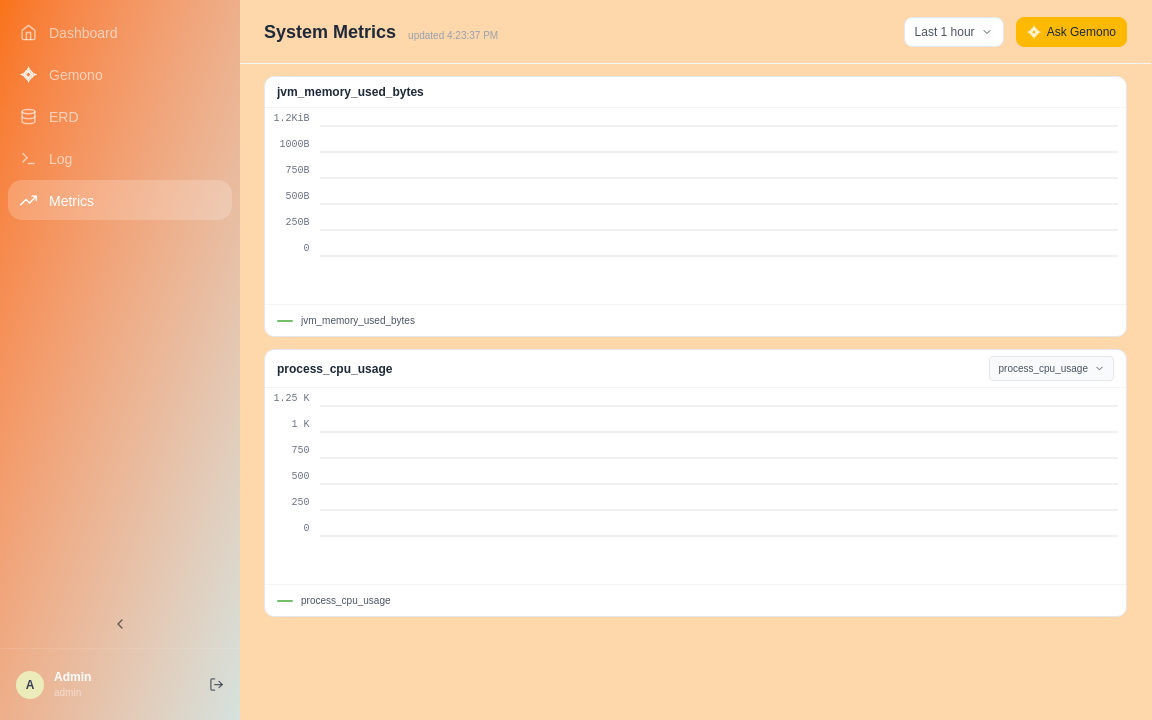
Test case: MetricsPage › menampilkan pesan kosong saat pencarian metrik tidak cocok
The width and height of the screenshot is (1152, 720).
Click the button "process_cpu_usage" at coordinates (1052, 368), box x1=990 y1=356 x2=1114 y2=381
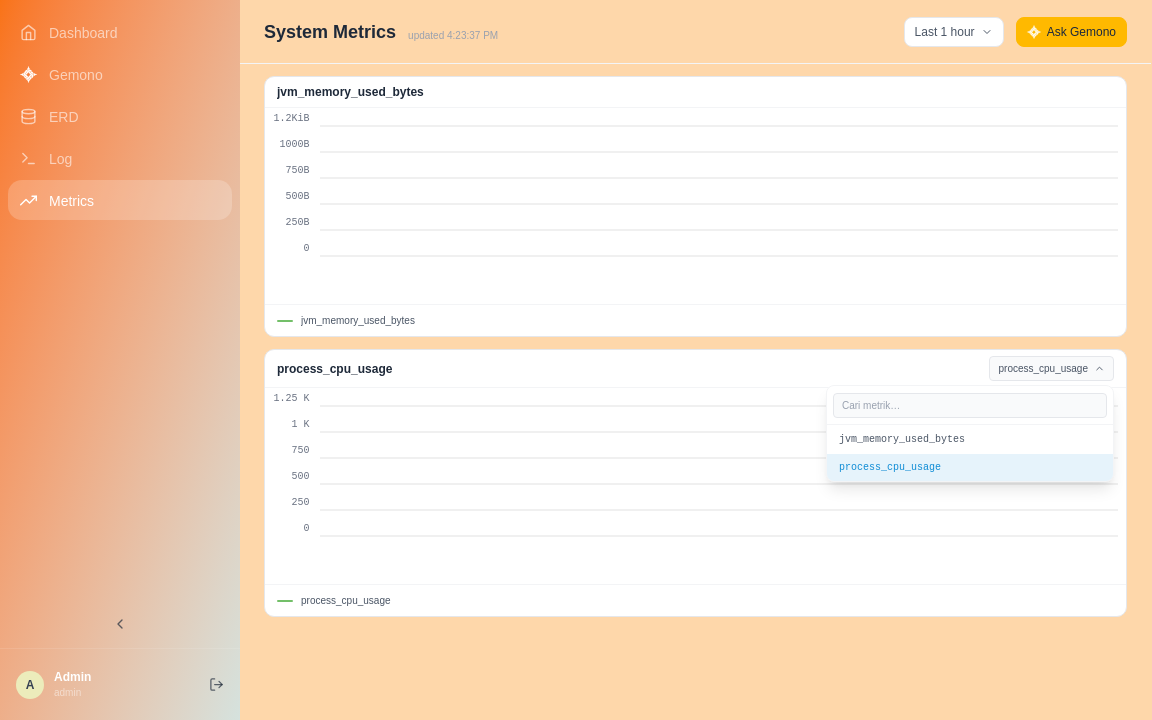
Type "tidak-ada-metrik-ini" into the field with id "metric-search" at coordinates (970, 406), box x1=833 y1=393 x2=1107 y2=418
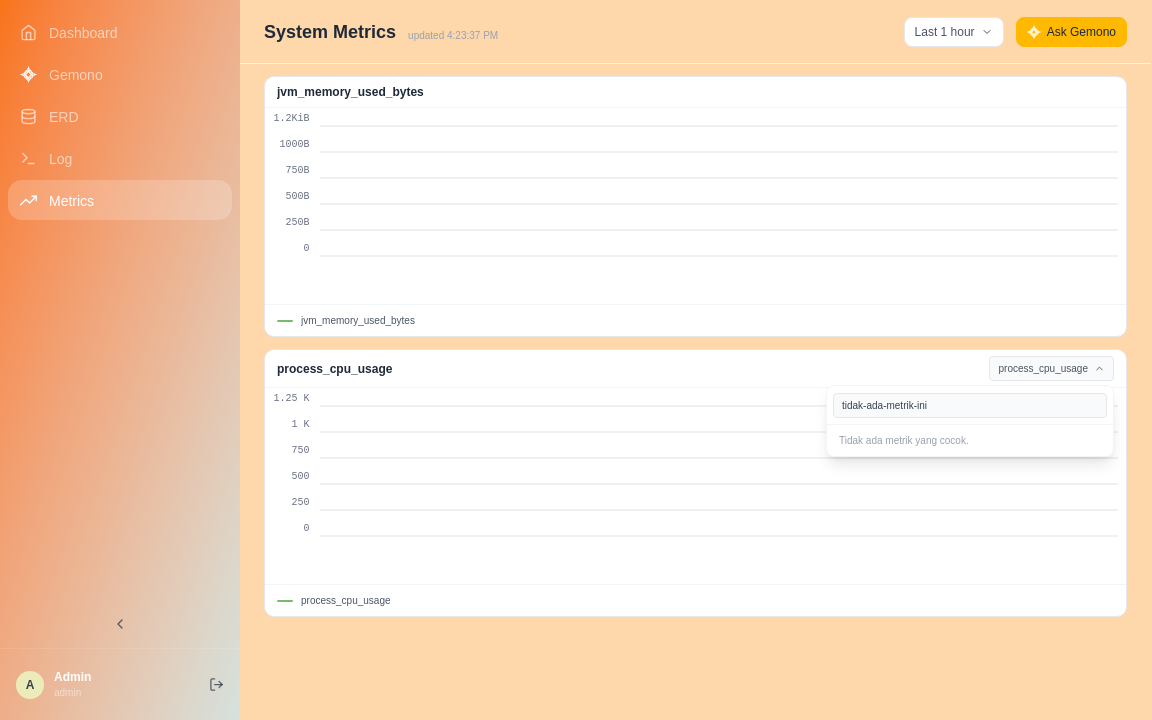
Expected: the text "Tidak ada metrik yang cocok." is shown, x1=839 y1=435 x2=969 y2=446
